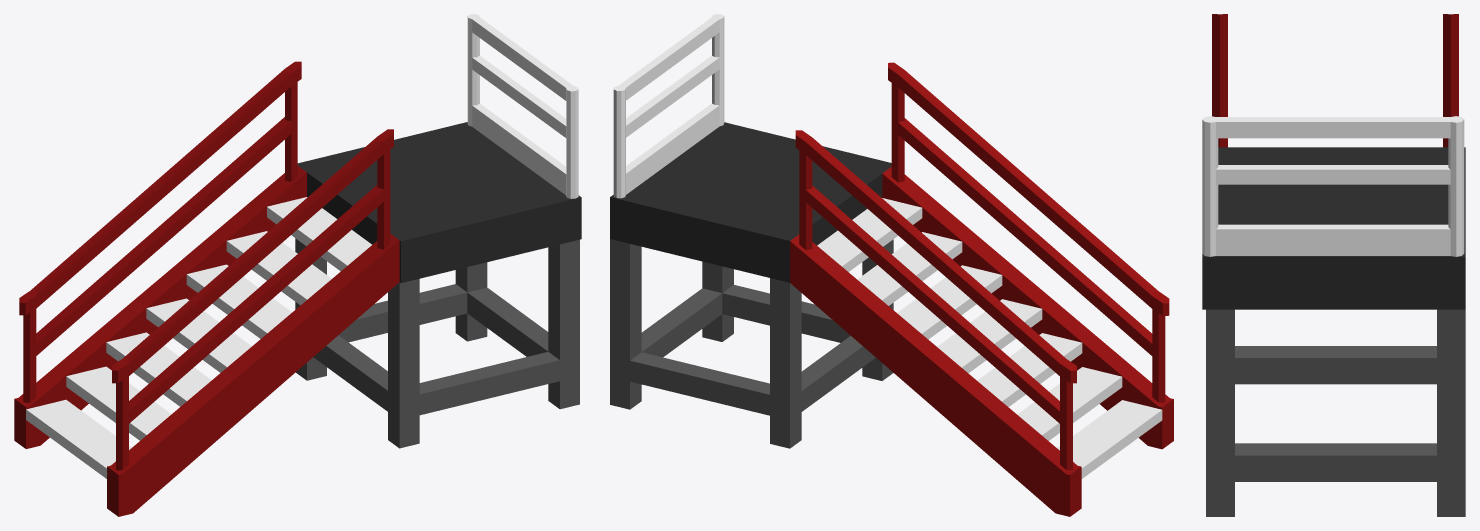
The model's file is Stairs_Modular.FBX.
3 views of the same model, side by side, from view 1: azimuth 30°, elevation 25°; view 2: azimuth 150°, elevation 25°; view 3: azimuth 270°, elevation 25° (orthographic). The views are drawn at different scales.
Parts seen in each view (by area): view 1: Stairs_Rail001, Stairs_Rail, Platform_Support, Platform, Platform_Railing, Stairs_Path, Stairs_Path001, Stairs_Path004, Stairs_Path003, Stairs_Path002, Stairs_Path005, Stairs_Path006; view 2: Stairs_Rail, Stairs_Rail001, Platform_Support, Platform, Platform_Railing, Stairs_Path, Stairs_Path001, Stairs_Path004, Stairs_Path003, Stairs_Path006, Stairs_Path002, Stairs_Path005; view 3: Platform, Platform_Support, Platform_Railing, Stairs_Rail001, Stairs_Rail.
Boxes of the visible parts, bbox=[...] form: Stairs_Rail001: bbox=[107, 129, 399, 516]; Stairs_Rail: bbox=[14, 61, 306, 448]; Platform_Support: bbox=[295, 238, 579, 448]; Platform: bbox=[297, 122, 581, 283]; Platform_Railing: bbox=[467, 14, 578, 198]; Stairs_Path: bbox=[26, 399, 131, 478]; Stairs_Path001: bbox=[66, 366, 171, 440]; Stairs_Path004: bbox=[186, 264, 291, 338]; Stairs_Path003: bbox=[146, 298, 251, 372]; Stairs_Path002: bbox=[106, 332, 211, 406]; Stairs_Path005: bbox=[226, 231, 331, 305]; Stairs_Path006: bbox=[267, 197, 371, 271]; Stairs_Rail: bbox=[790, 130, 1081, 516]; Stairs_Rail001: bbox=[882, 62, 1173, 449]; Platform_Support: bbox=[610, 239, 893, 448]; Platform: bbox=[610, 122, 891, 282]; Platform_Railing: bbox=[613, 14, 724, 198]; Stairs_Path: bbox=[1057, 400, 1162, 478]; Stairs_Path001: bbox=[1017, 367, 1122, 440]; Stairs_Path004: bbox=[897, 265, 1002, 339]; Stairs_Path003: bbox=[937, 299, 1042, 373]; Stairs_Path006: bbox=[817, 198, 922, 271]; Stairs_Path002: bbox=[977, 333, 1082, 406]; Stairs_Path005: bbox=[857, 232, 962, 305]; Platform: bbox=[1202, 147, 1465, 309]; Platform_Support: bbox=[1206, 309, 1465, 516]; Platform_Railing: bbox=[1202, 116, 1464, 256]; Stairs_Rail001: bbox=[1212, 14, 1227, 147]; Stairs_Rail: bbox=[1443, 14, 1458, 147].
Bounding box in the file's own units: 231 × 150 × 91.19.
